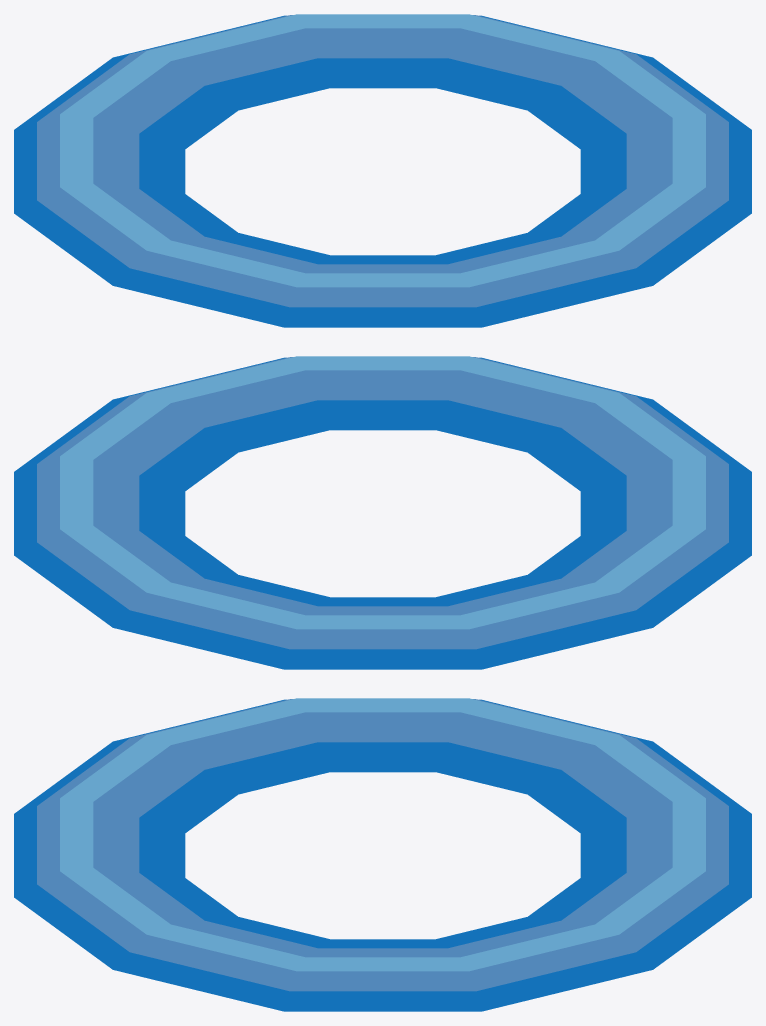
Rendered from plop.fbx.
The picture shows the model from 3 angles, top to bottom: view 1: azimuth 30°, elevation 25°; view 2: azimuth 150°, elevation 25°; view 3: azimuth 270°, elevation 25°; orthographic projection.
Visible parts, largest first — view 1: tube_2, tube, tube_1; view 2: tube_2, tube, tube_1; view 3: tube_2, tube, tube_1.
Boxes of the visible parts, box(x1,y1,x2,y2) form: tube_2: box(37, 15, 728, 307); tube: box(14, 15, 751, 327); tube_1: box(60, 14, 705, 287); tube_2: box(37, 357, 728, 649); tube: box(14, 357, 751, 669); tube_1: box(60, 356, 705, 629); tube_2: box(37, 699, 728, 991); tube: box(14, 699, 751, 1011); tube_1: box(60, 698, 705, 971).
Bounding box in the file's own units: 100 × 3.12 × 100.
1 material, 1 textured.
